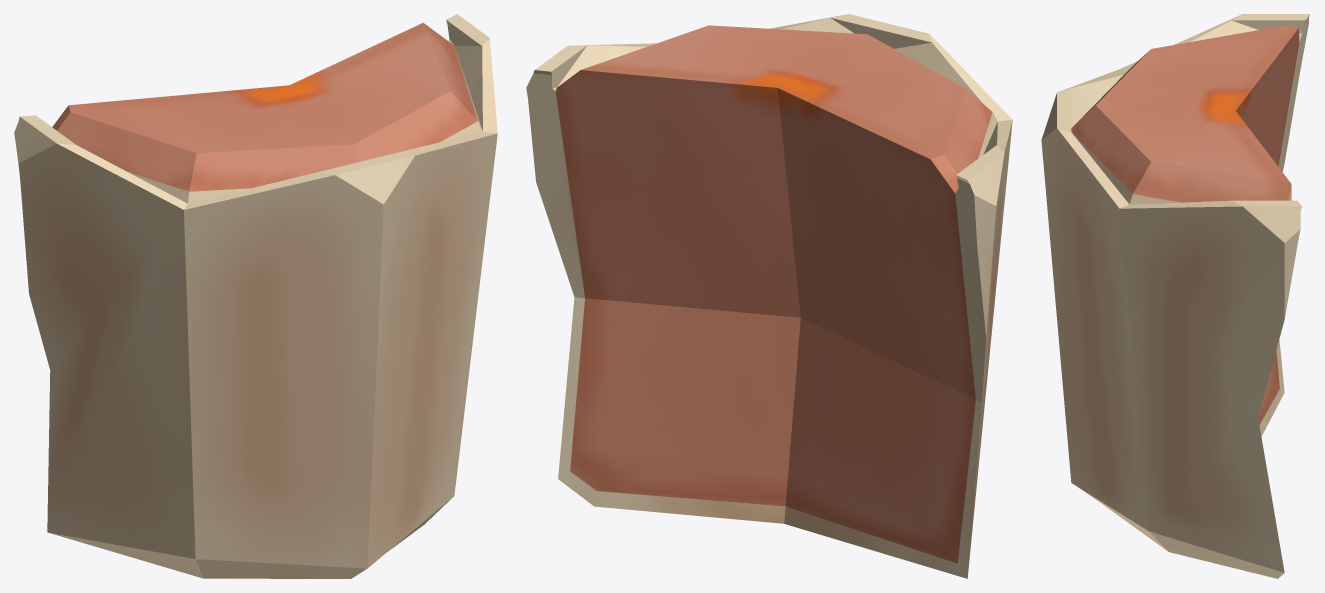
File: Foods_SiomaiEaten.fbx
The picture shows the model from 3 angles, left to right: view 1: azimuth 30°, elevation 25°; view 2: azimuth 150°, elevation 25°; view 3: azimuth 270°, elevation 25°; orthographic projection. The views are drawn at different scales.
Visible parts, largest first — view 1: SiomaiBite; view 2: SiomaiBite; view 3: SiomaiBite.
Boxes of the visible parts, x1,y1,x2,y2 form: SiomaiBite: (14,14,497,578); SiomaiBite: (526,14,1012,578); SiomaiBite: (1041,14,1310,578).
Bounding box in the file's own units: 120 × 66.6 × 109.
1 material, 1 textured.
